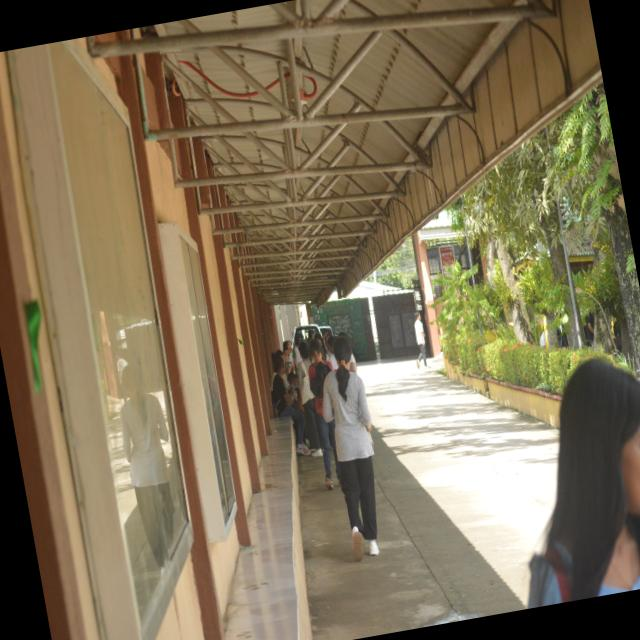person: (528, 360, 639, 608), (323, 338, 378, 561), (119, 366, 173, 571), (308, 338, 340, 490), (270, 355, 310, 455), (296, 342, 322, 457), (414, 312, 426, 368)
